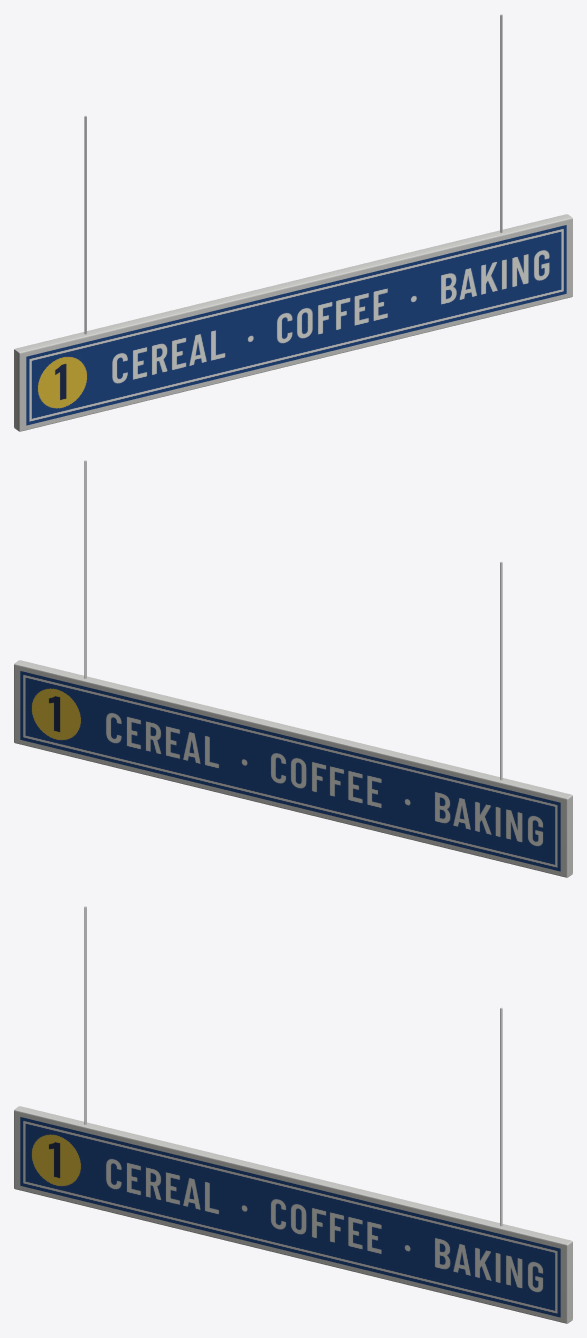
The model's file is SM_Aisle_Sign_1.fbx.
The picture shows the model from 3 angles, top to bottom: view 1: azimuth 30°, elevation 25°; view 2: azimuth 150°, elevation 25°; view 3: azimuth 330°, elevation 25°; orthographic projection.
Visible parts, largest first — view 1: SM_Aisle_Sign_1_1; view 2: SM_Aisle_Sign_1_1; view 3: SM_Aisle_Sign_1_1.
Part boxes in pixels (x1,y1,x2,y2): SM_Aisle_Sign_1_1: [14, 14, 572, 431]; SM_Aisle_Sign_1_1: [14, 460, 572, 877]; SM_Aisle_Sign_1_1: [14, 906, 572, 1323].
Bounding box in the file's own units: 160 × 82 × 3.1.
